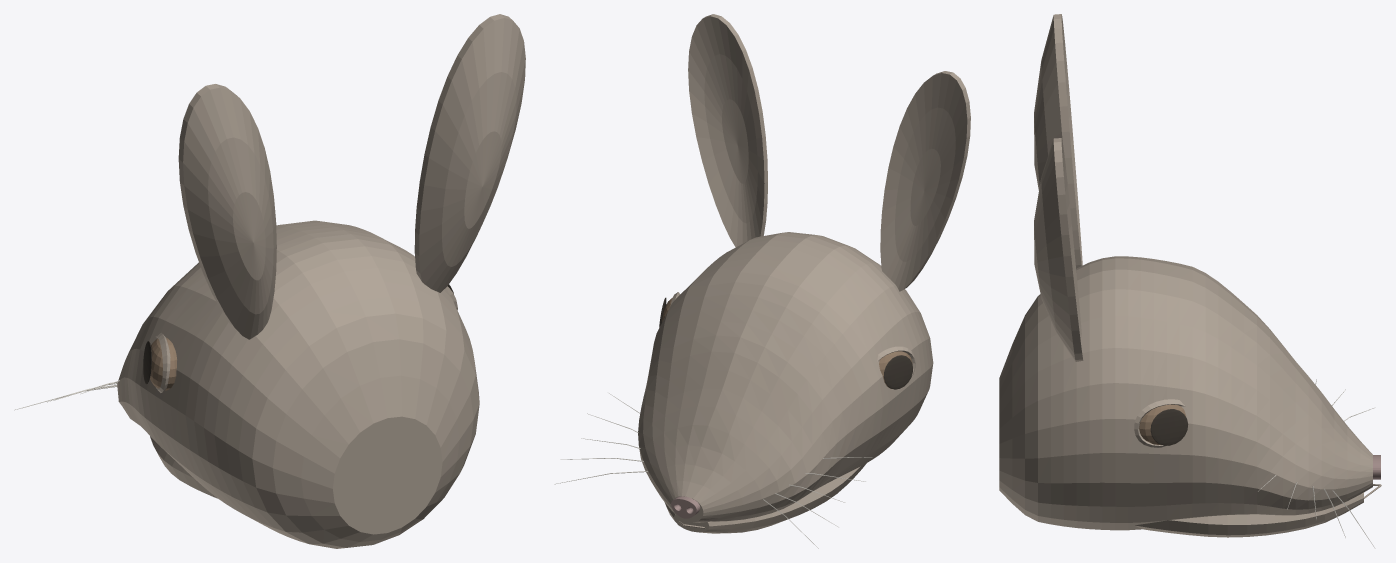
File: rabbit_head_01.glb
3 views of the same model, side by side, from view 1: azimuth 30°, elevation 25°; view 2: azimuth 150°, elevation 25°; view 3: azimuth 270°, elevation 25° (orthographic). The views are drawn at different scales.
Parts seen in each view (by area): view 1: Cranium, EarR, EarL, EyeL, Jaw; view 2: Cranium, EarR, EarL, Jaw, PupilL; view 3: Cranium, EarR, EarL, Jaw, PupilR, EyeR, OrbitalLidR.
Part boxes in pixels (x1=…): Cranium: x1=117, y1=220, x2=479, y2=548; EarR: x1=414, y1=14, x2=525, y2=292; EarL: x1=178, y1=84, x2=276, y2=339; EyeL: x1=150, y1=337, x2=177, y2=390; Jaw: x1=150, y1=436, x2=217, y2=498; Cranium: x1=638, y1=232, x2=933, y2=522; EarR: x1=688, y1=14, x2=767, y2=247; EarL: x1=880, y1=71, x2=970, y2=291; Jaw: x1=664, y1=463, x2=866, y2=533; PupilL: x1=884, y1=355, x2=912, y2=389; Cranium: x1=999, y1=256, x2=1372, y2=530; EarR: x1=1034, y1=138, x2=1083, y2=361; EarL: x1=1034, y1=14, x2=1082, y2=268; Jaw: x1=1134, y1=492, x2=1363, y2=537; PupilR: x1=1150, y1=409, x2=1188, y2=445; EyeR: x1=1139, y1=404, x2=1185, y2=444; OrbitalLidR: x1=1134, y1=399, x2=1185, y2=447.
Size of the model in its own units: 0.3121 by 0.431 by 0.3386.
